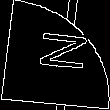N_W: (25, 32, 85, 78)
